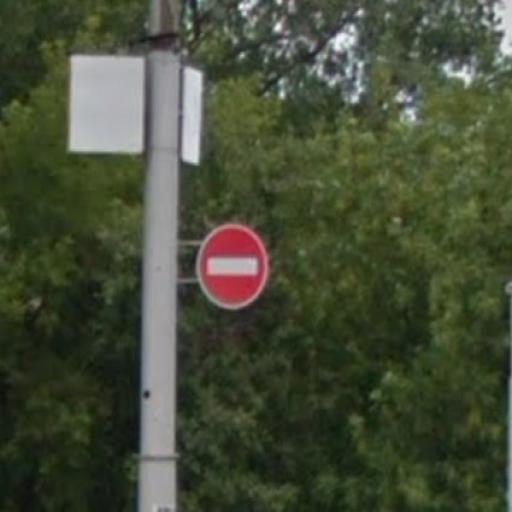traffic_sign: (192, 217, 271, 317)
